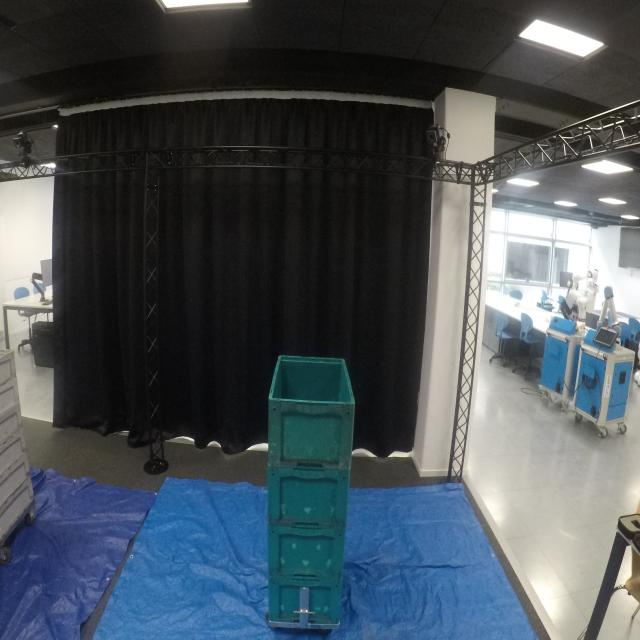BoxB4: (262, 349, 350, 470), (268, 459, 346, 531), (267, 530, 345, 584), (268, 577, 342, 625)
